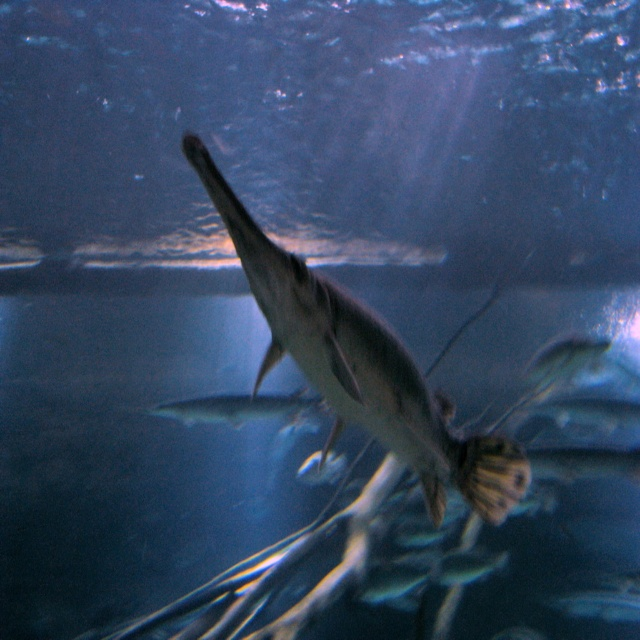Shark: (184, 119, 510, 559)
